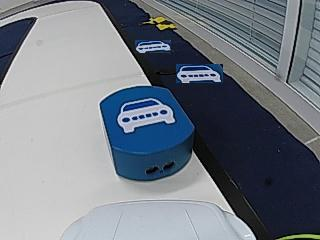safety: (117, 97, 176, 133)
